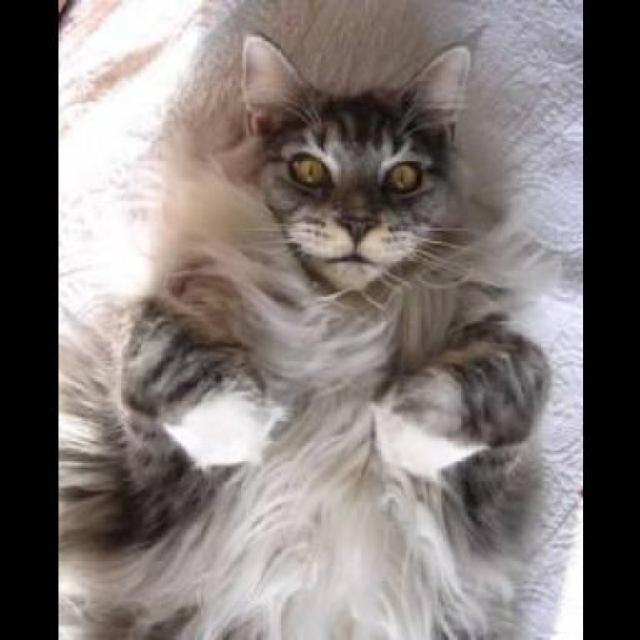unauthorized: (56, 0, 569, 638)
